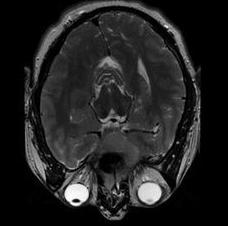Normal_Brain: (1, 1, 228, 226)
